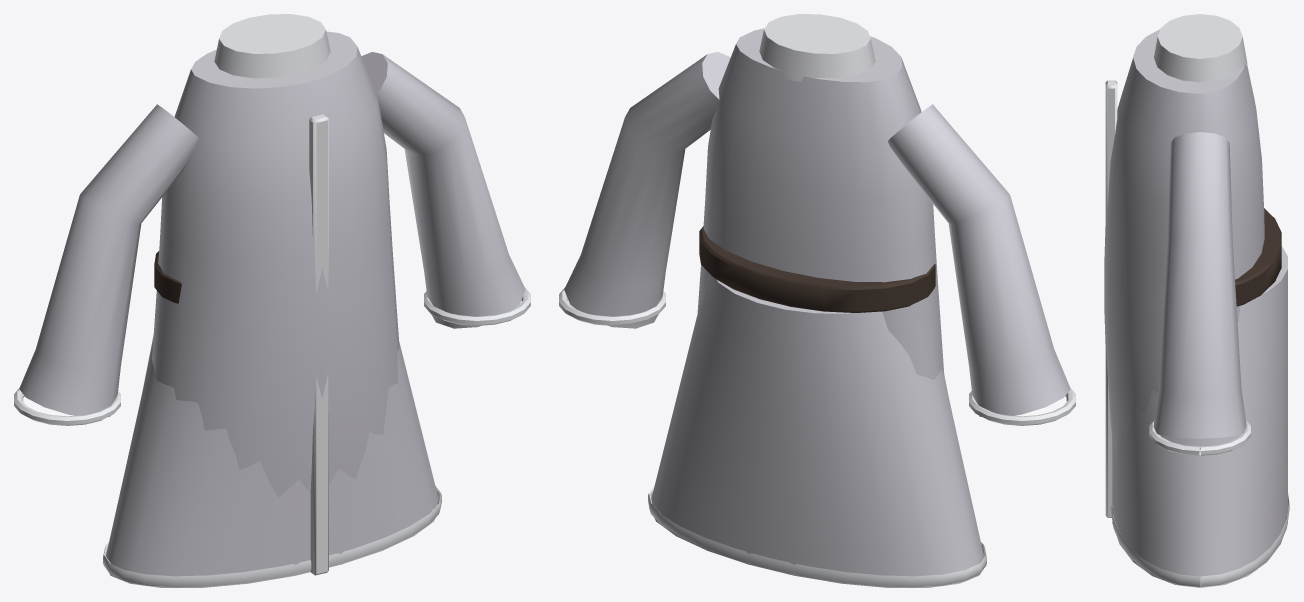
The model's file is tc_afterimage_mantle.glb.
3 renders of one model, left to right at view 1: azimuth 30°, elevation 25°; view 2: azimuth 150°, elevation 25°; view 3: azimuth 270°, elevation 25°, orthographic. The views are drawn at different scales.
Visible parts, largest first — view 1: tc_afterimage_mantle; view 2: tc_afterimage_mantle; view 3: tc_afterimage_mantle.
Boxes of the visible parts, left/top/right/bottom form: tc_afterimage_mantle: left=14, top=14, right=530, bottom=587; tc_afterimage_mantle: left=559, top=14, right=1075, bottom=587; tc_afterimage_mantle: left=1104, top=14, right=1289, bottom=587.
Bounding box in the file's own units: 0.9343 × 0.8942 × 0.3135.
